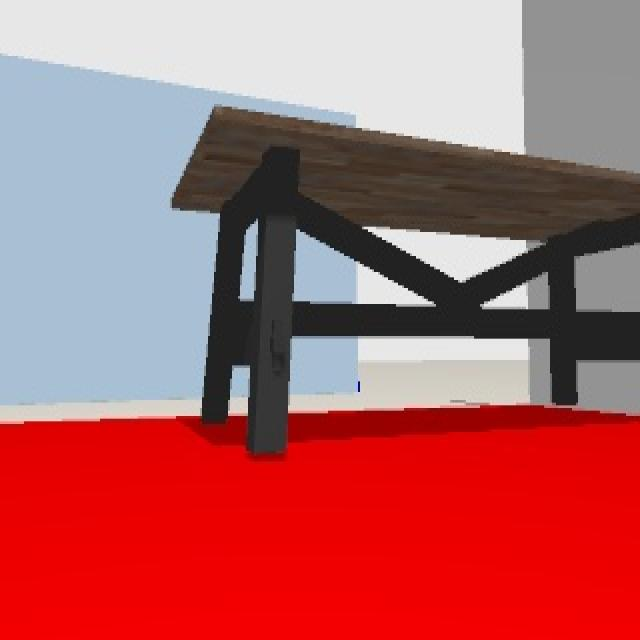dining: (172, 104, 640, 456)
